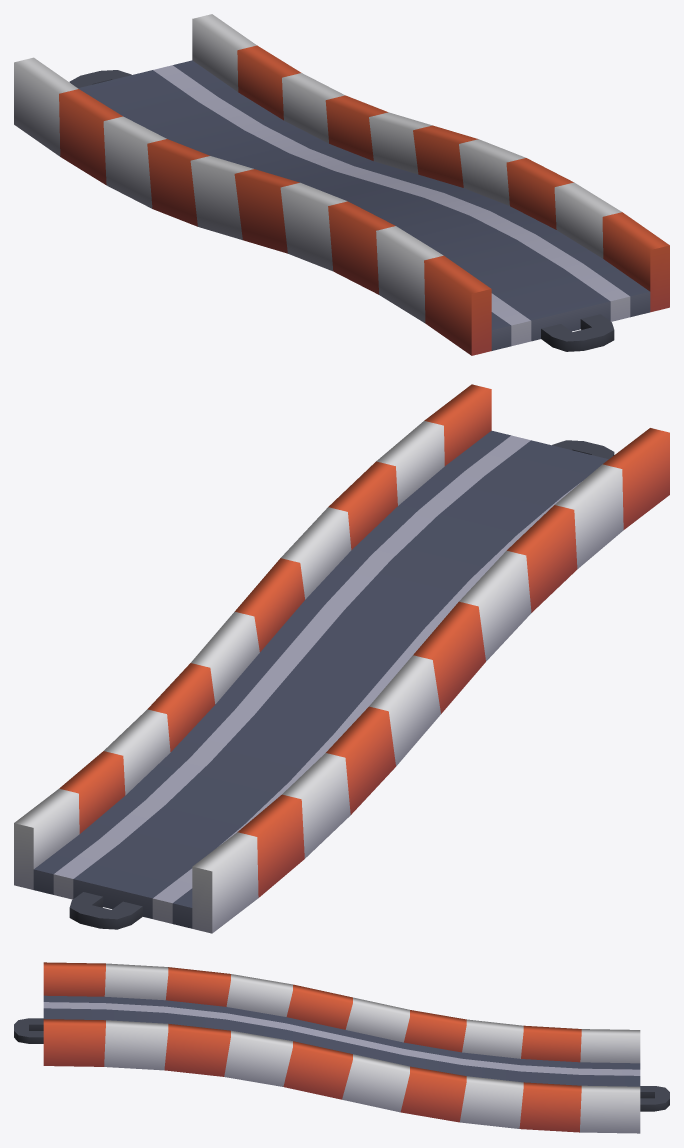
Rendered from track-road-narrow-straight-hill-complete-half.glb.
The picture shows the model from 3 angles, top to bottom: view 1: azimuth 30°, elevation 25°; view 2: azimuth 150°, elevation 25°; view 3: azimuth 270°, elevation 25°; orthographic projection. The views are drawn at different scales.
Parts seen in each view (by area): view 1: track-road-narrow-straight-hill-complete-half; view 2: track-road-narrow-straight-hill-complete-half; view 3: track-road-narrow-straight-hill-complete-half.
Part boxes in pixels (bbox=[...]): track-road-narrow-straight-hill-complete-half: bbox=[14, 14, 669, 355]; track-road-narrow-straight-hill-complete-half: bbox=[14, 384, 669, 933]; track-road-narrow-straight-hill-complete-half: bbox=[14, 962, 669, 1133].
Size of the model in its own units: 1 by 0.8 by 4.4.
